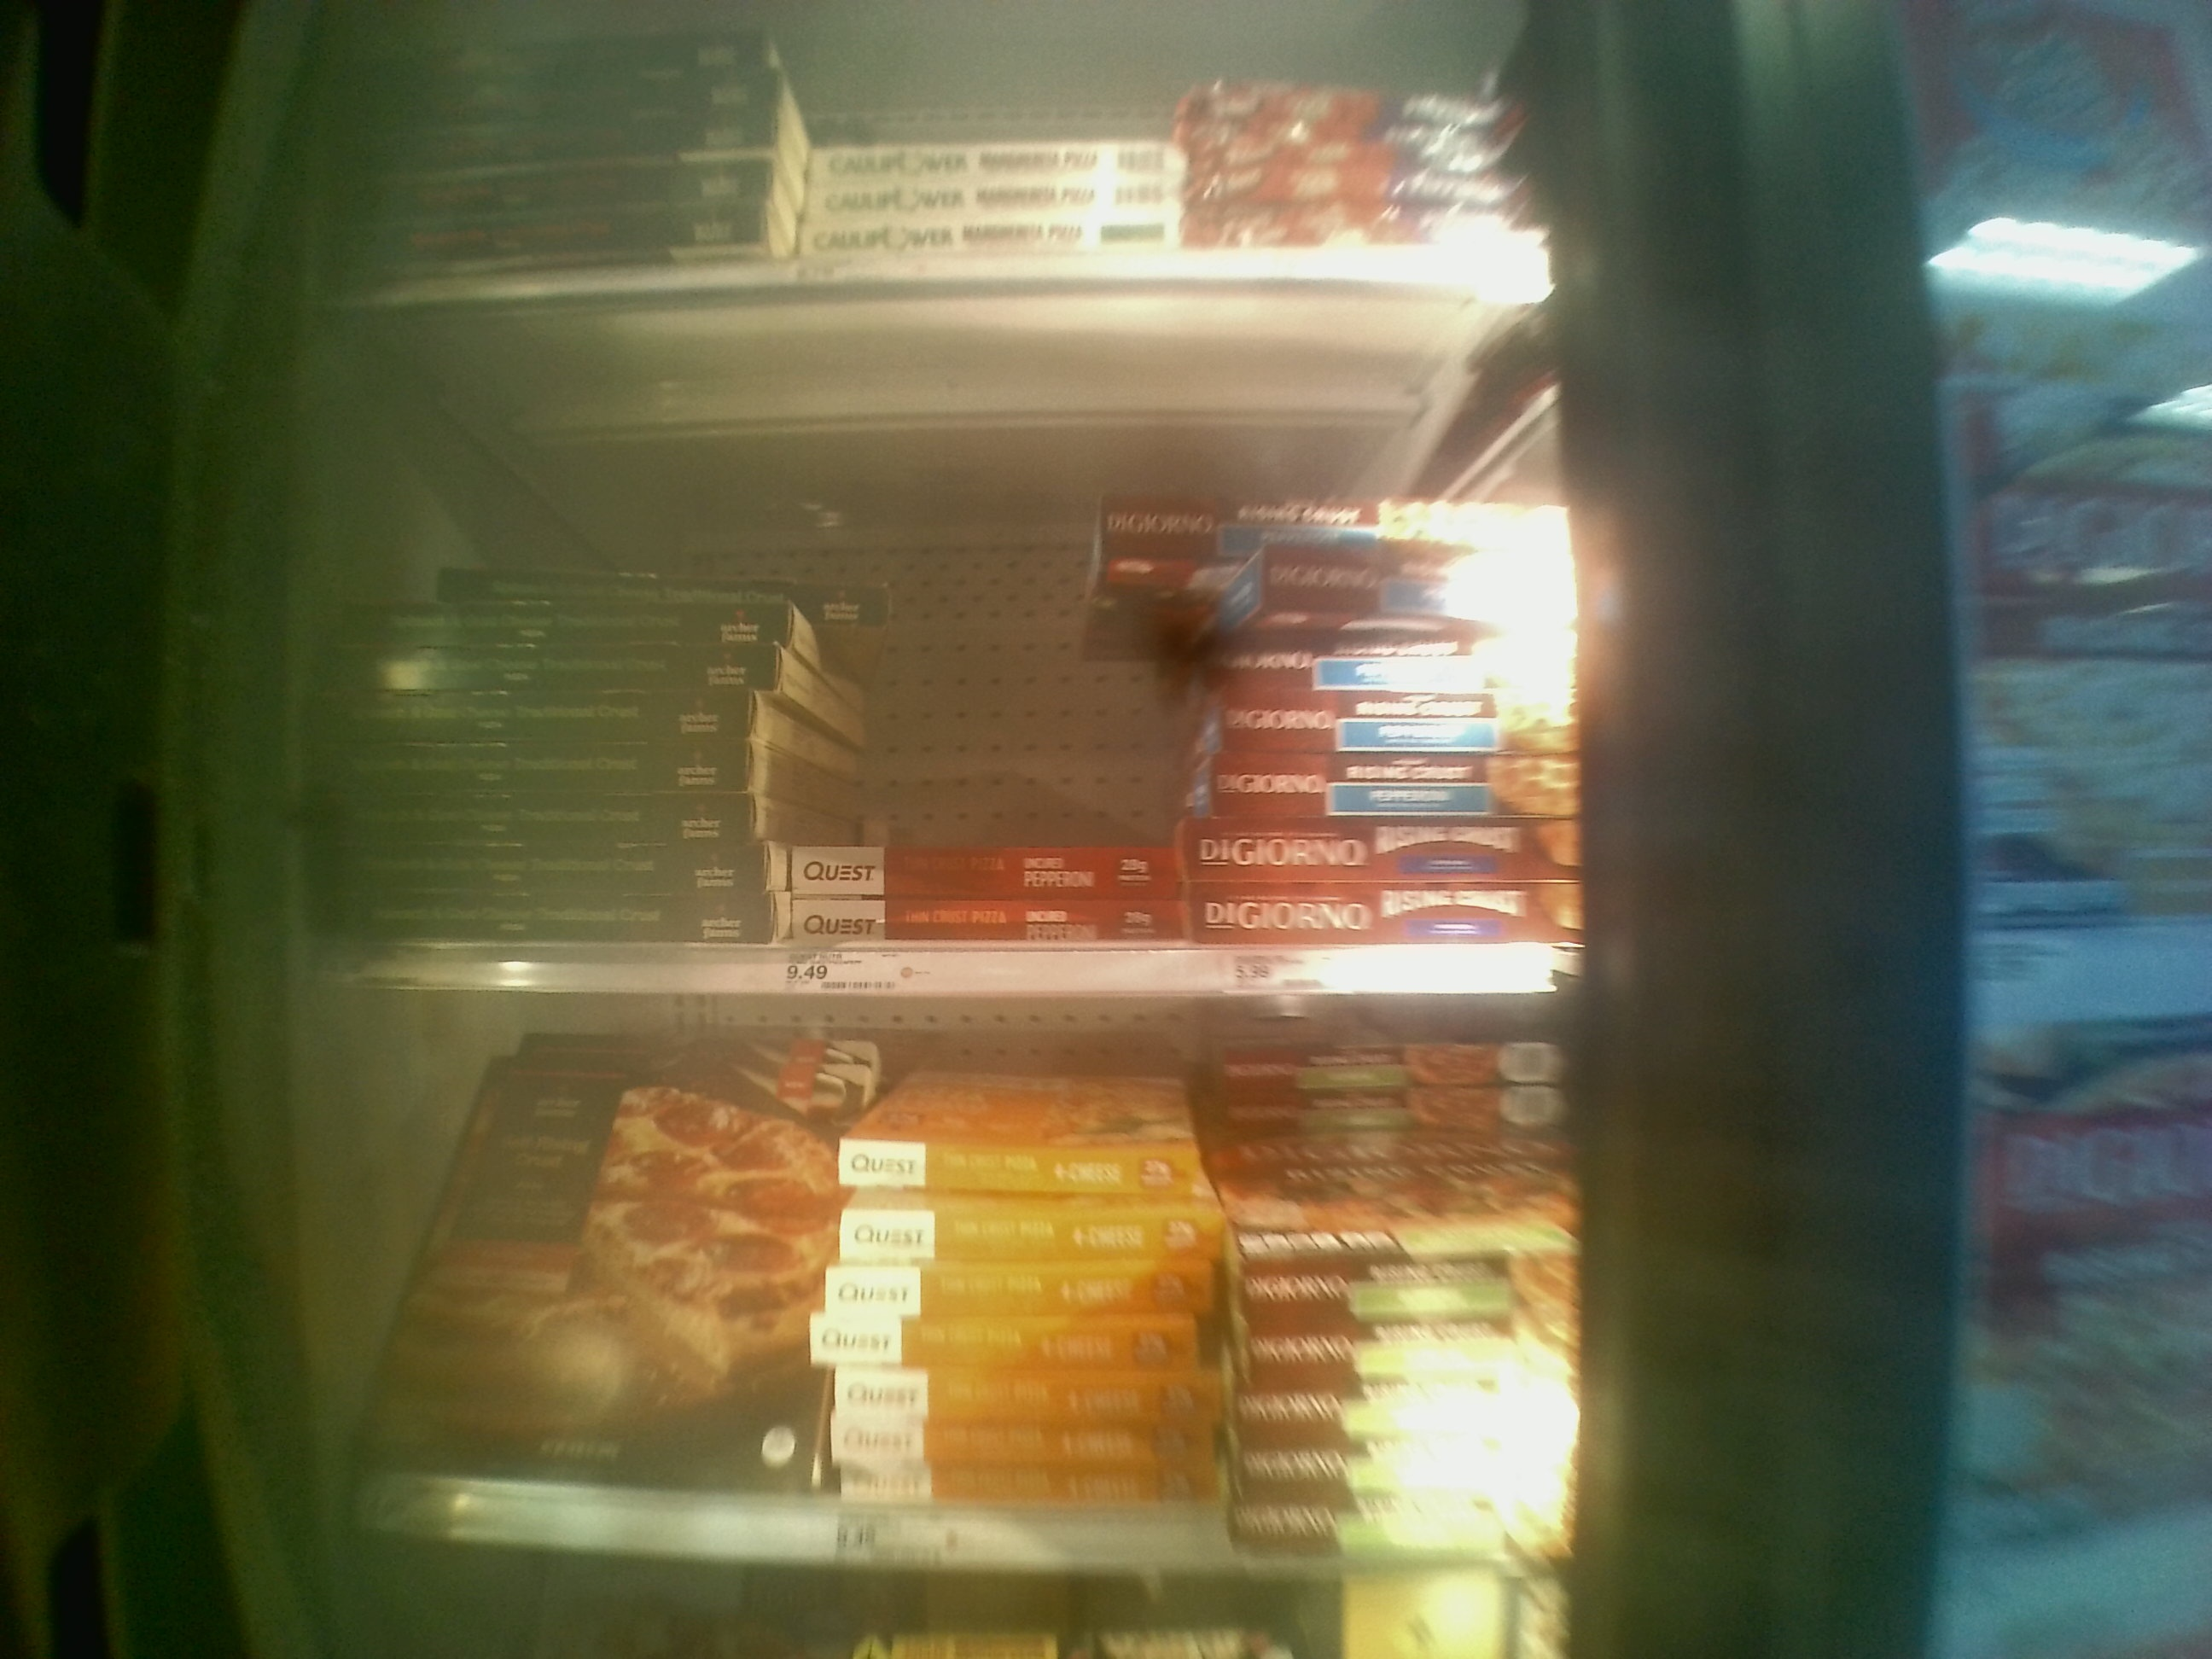pizza: (1228, 1124, 1550, 1236), (446, 561, 878, 627), (1109, 495, 1561, 556), (343, 211, 761, 275), (1200, 749, 1561, 823), (1237, 1486, 1557, 1563), (1184, 823, 1571, 884), (822, 1255, 1230, 1310), (1259, 566, 1552, 641), (848, 1141, 1200, 1201), (1195, 897, 1587, 948), (838, 1199, 1216, 1251), (341, 904, 770, 950), (1216, 647, 1571, 701), (1228, 697, 1555, 755), (843, 1371, 1204, 1422), (352, 118, 777, 160), (796, 847, 1169, 894), (329, 164, 758, 204), (1249, 1324, 1555, 1380), (1245, 1270, 1545, 1324), (315, 812, 744, 849), (1228, 1385, 1566, 1431), (1224, 1049, 1547, 1094), (401, 23, 747, 64), (833, 1431, 1170, 1473), (827, 1326, 1188, 1364), (813, 176, 1174, 214), (336, 868, 752, 899), (376, 78, 782, 110), (1240, 1441, 1550, 1481), (806, 228, 1183, 260), (782, 911, 1183, 939), (834, 1481, 1190, 1513), (789, 136, 1165, 164), (1230, 1096, 1561, 1121)
pizzabox: (357, 1037, 829, 1490), (298, 699, 754, 753), (331, 601, 796, 650), (286, 762, 766, 802), (303, 657, 787, 690)
